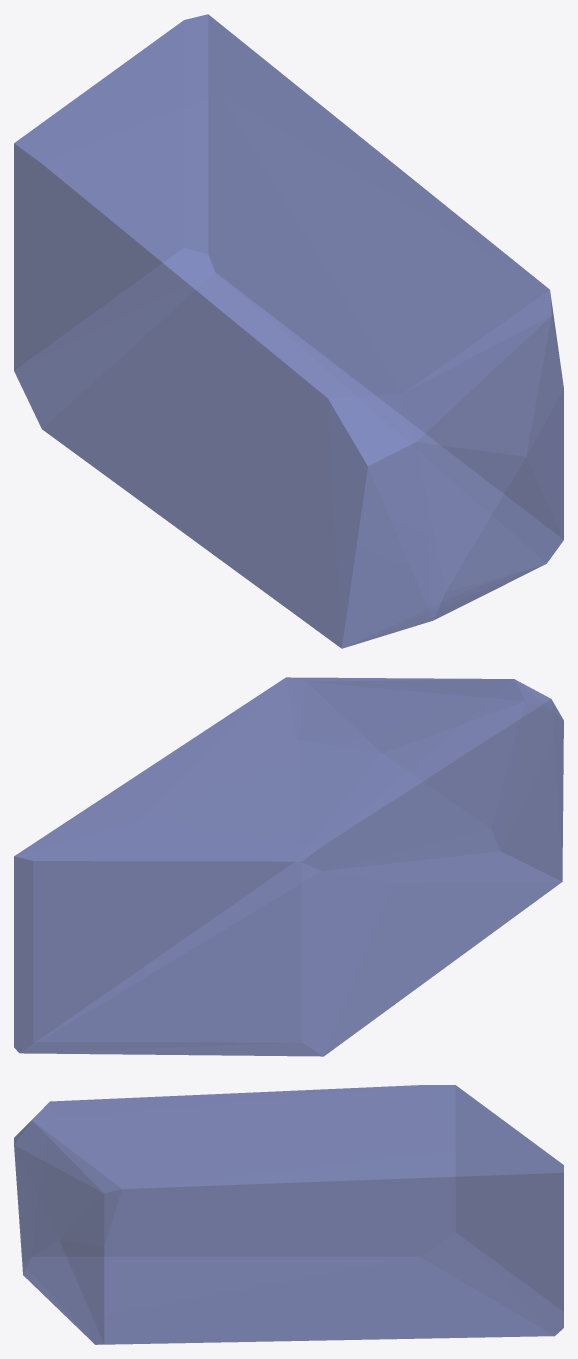
The picture shows the model from 3 angles, top to bottom: view 1: azimuth 30°, elevation 25°; view 2: azimuth 150°, elevation 25°; view 3: azimuth 270°, elevation 25°; orthographic projection. The views are drawn at different scales.
Visible parts, largest first — view 1: Shape_IndexedFaceSet.025_Shape_IndexedFaceSet.10130; view 2: Shape_IndexedFaceSet.025_Shape_IndexedFaceSet.10130; view 3: Shape_IndexedFaceSet.025_Shape_IndexedFaceSet.10130.
Part boxes in pixels (bbox=[...]): Shape_IndexedFaceSet.025_Shape_IndexedFaceSet.10130: bbox=[14, 14, 563, 648]; Shape_IndexedFaceSet.025_Shape_IndexedFaceSet.10130: bbox=[14, 677, 563, 1056]; Shape_IndexedFaceSet.025_Shape_IndexedFaceSet.10130: bbox=[14, 1085, 563, 1344].
Size of the model in its own units: 0.0084 by 0.00803 by 0.0223.
